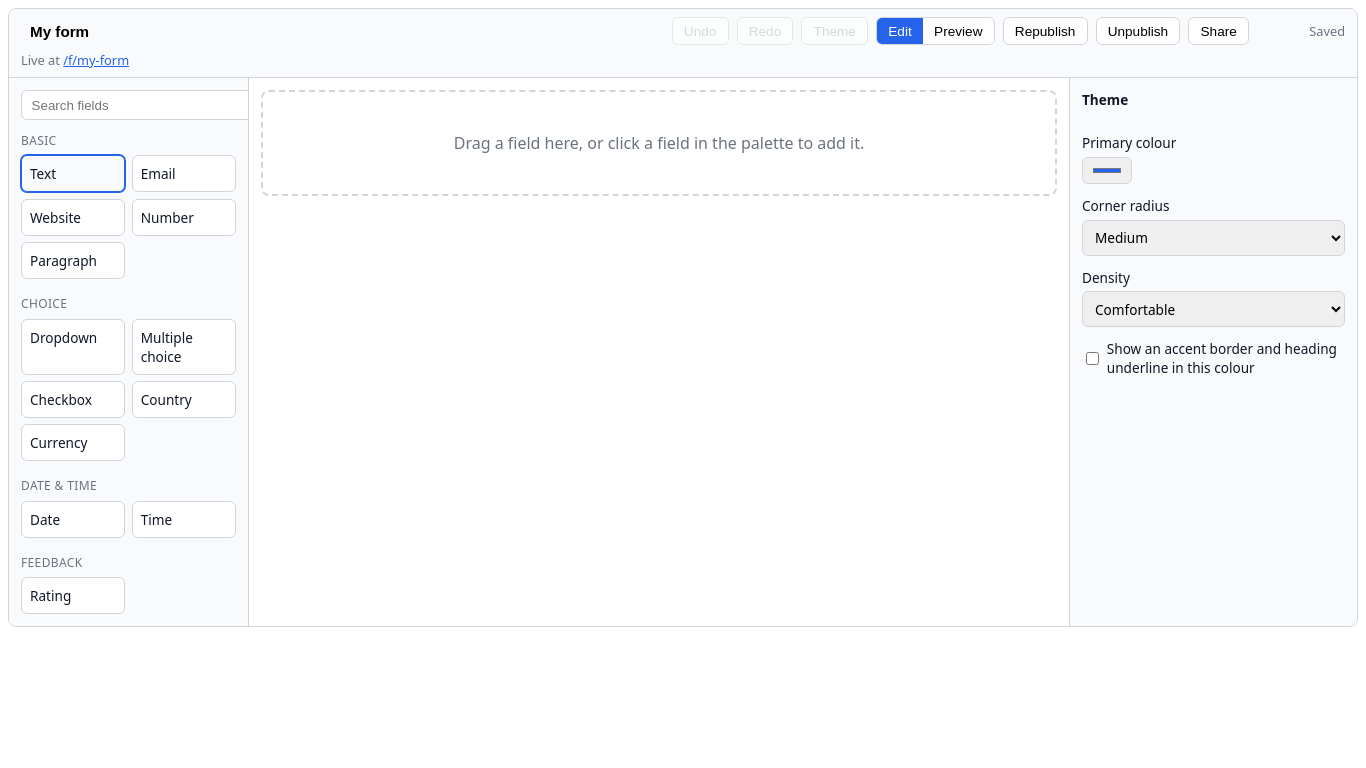
Test: Builder › publishing again after an unpublish brings the live link back
Click the button "Unpublish": [1138, 31] box [1096,17,1180,45]
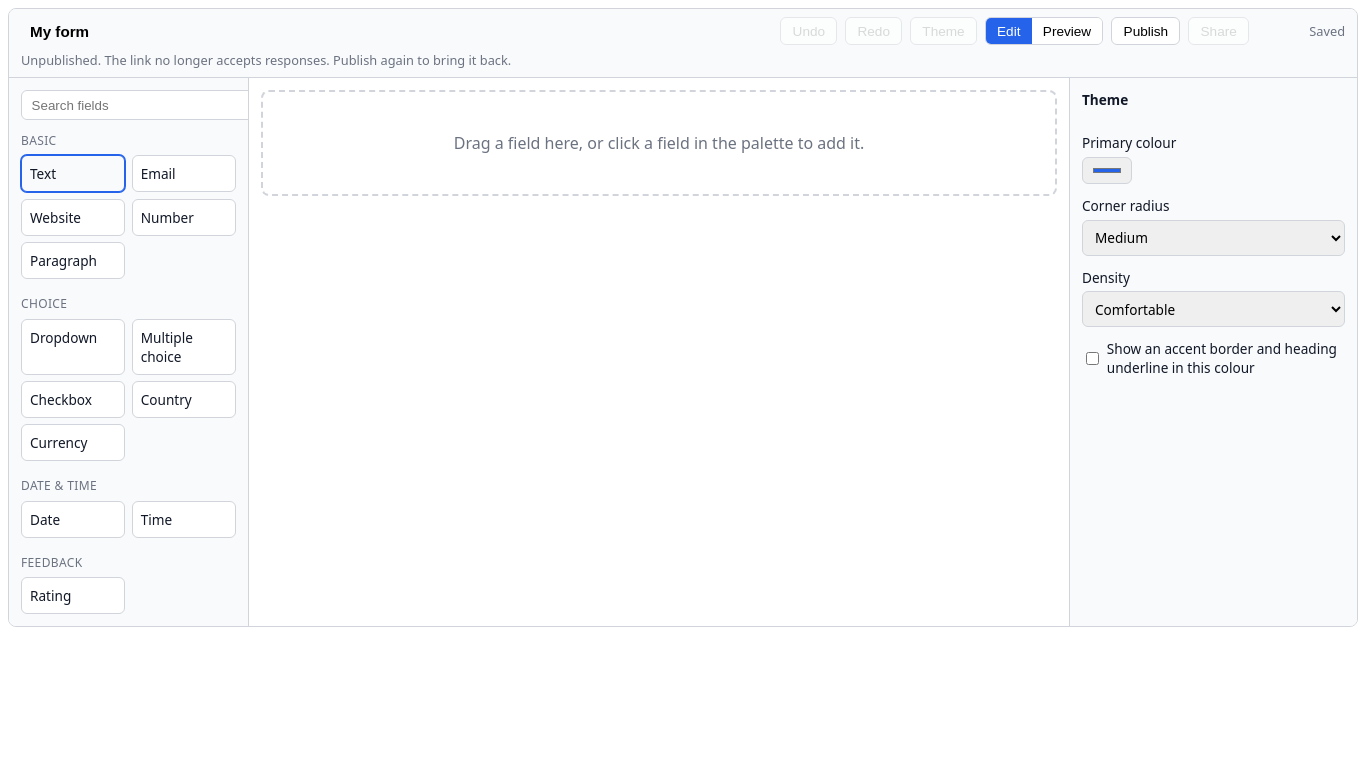
expect the text "no longer accepts responses" is shown: met, box [21,51,511,69]
Click the button "Publish": [1146, 31] box [1111,17,1180,45]
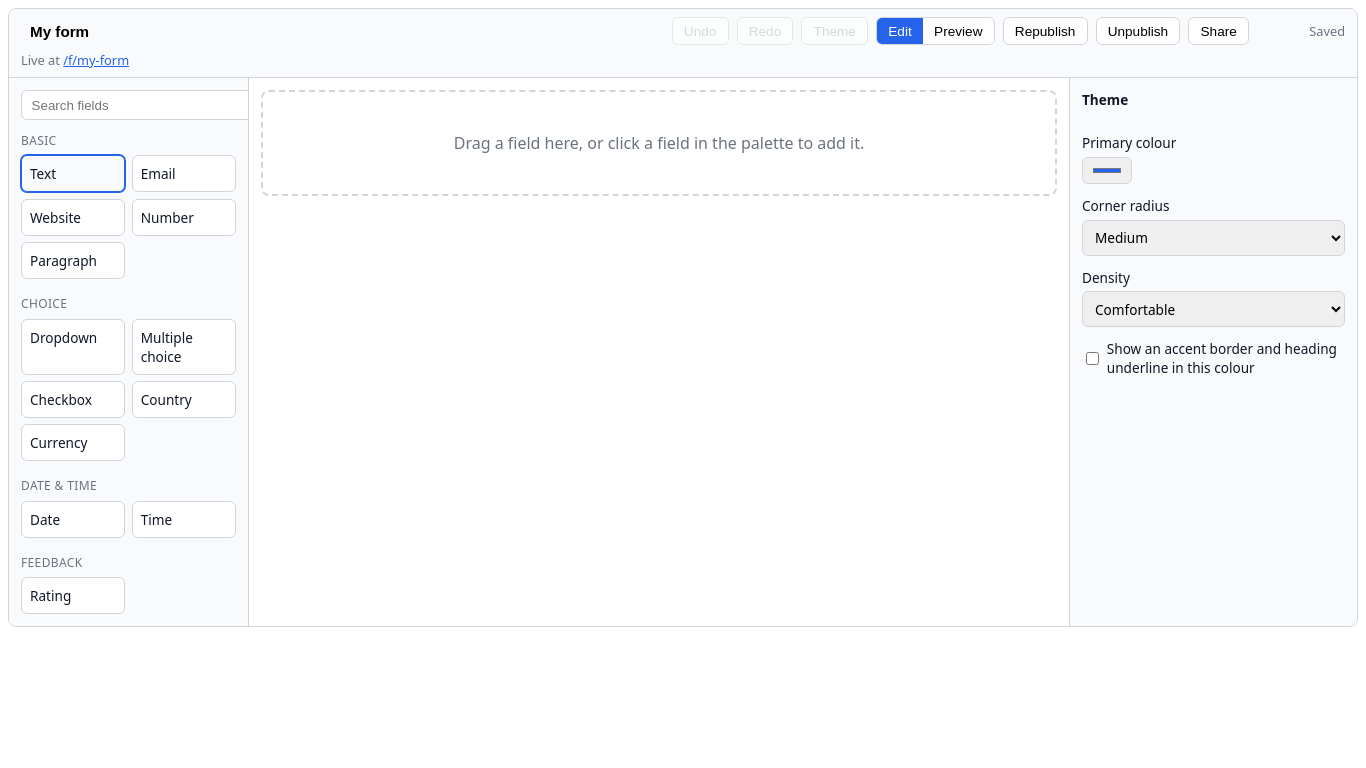
expect the link "/f/my-form" is shown: met, box [63,51,129,69]
expect the text "no longer accepts responses" is gone: met
